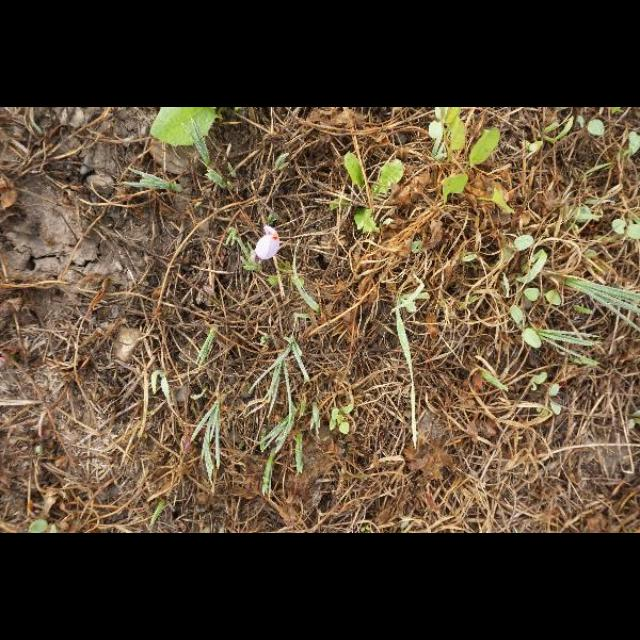flower: (255, 226, 281, 260)
